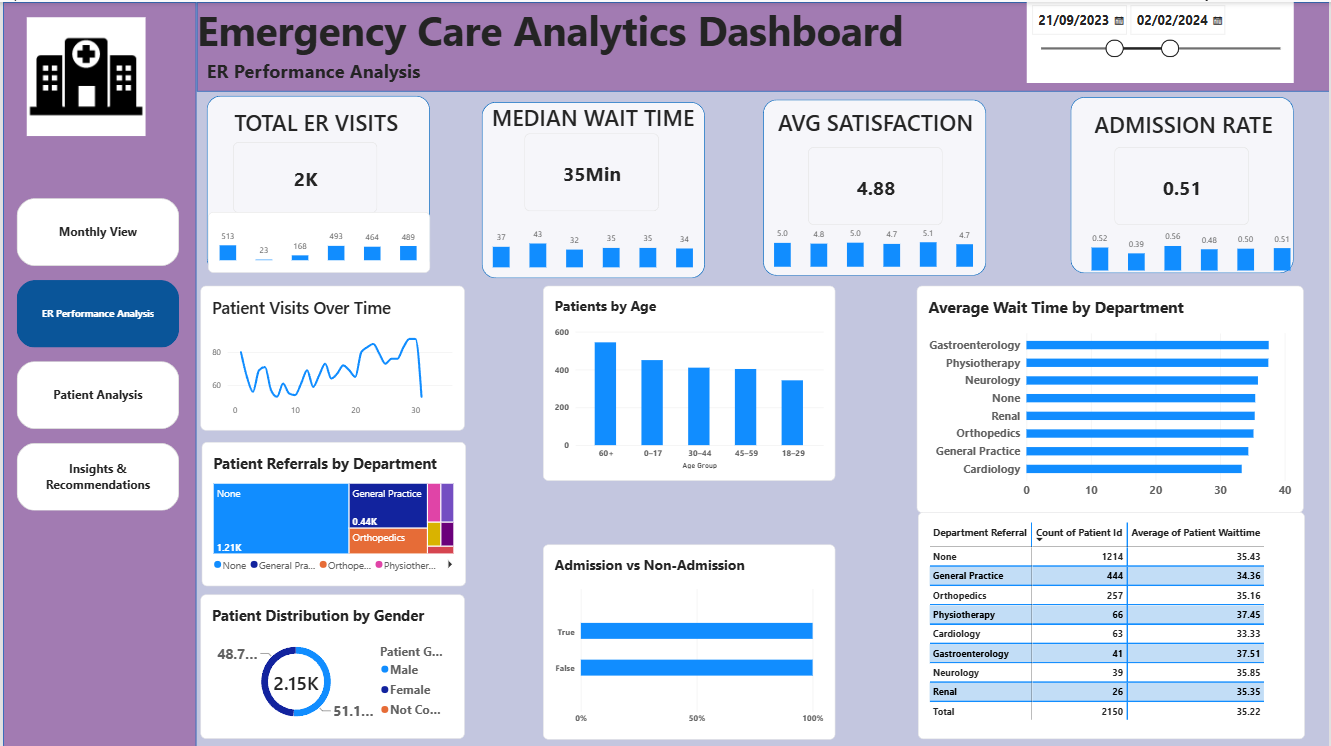

This screenshot's page, from the dashboard's own definition file:
{"tool":"powerbi","page":{"name":"ER Performance Analysis","canvas":[1920,1080],"ordinal":1},"visuals":[{"type":"shape","box":[294.8,134.9,323.2,255.2],"z":0},{"type":"shape","box":[0,0,279.9,1080.6],"z":1000},{"type":"shape","box":[279.9,0,1640.5,129.7],"z":2000},{"type":"textbox","box":[280.3,0,1640.5,117.3],"z":3000},{"type":"cardVisual","fields":{"Data":["Data Table.Total ER Visits"]},"box":[333.6,202,209.7,103.8],"z":4000},{"type":"textbox","box":[294.3,81.4,381.9,48],"z":5000},{"type":"slicer","fields":{"Values":["Data Table.Date"]},"box":[1481.7,0,386.1,116.9],"z":6000},{"type":"textbox","box":[334.3,151.6,283.3,71.4],"z":7000},{"type":"columnChart","fields":{"Category":["Data Table.Date.Variation.Date Hierarchy.Month"],"Y":["Data Table.Total ER Visits"]},"box":[296.3,304.7,321.4,87.7],"z":8000},{"type":"shape","box":[1100.3,141.2,323.2,255.2],"z":9000},{"type":"cardVisual","fields":{"Data":["Hospital ER_Data.Avg Satisfaction"]},"box":[1165.7,209.4,195.5,113.2],"z":10000},{"type":"textbox","box":[1121.1,151.6,283.3,71.4],"z":11000},{"type":"columnChart","fields":{"Category":["Data Table.Date.Variation.Date Hierarchy.Month"],"Y":["Hospital ER_Data.Avg Satisfaction"]},"box":[1100.8,300.2,322.2,99.5],"z":12000},{"type":"shape","box":[1544.6,137,323.2,255.2],"z":13000},{"type":"cardVisual","fields":{"Data":["Hospital ER_Data.Admission Rate %"]},"box":[1608.6,209.4,195.5,113.2],"z":14000},{"type":"textbox","box":[1579.9,155.7,283.3,71.4],"z":15000},{"type":"columnChart","fields":{"Category":["Data Table.Date.Variation.Date Hierarchy.Month"],"Y":["Hospital ER_Data.Admission Rate %"]},"box":[1559.2,305.2,322.2,99.5],"z":16000},{"type":"shape","box":[693,144.9,323.2,255.2],"z":17000},{"type":"cardVisual","fields":{"Data":["Hospital ER_Data.Median Wait Time"]},"box":[754.3,190.9,195.5,113.2],"z":18000},{"type":"textbox","box":[708,145.3,307.3,91.3],"z":19000},{"type":"columnChart","fields":{"Category":["Data Table.Date.Variation.Date Hierarchy.Month"],"Y":["Median(Hospital ER_Data.Patient Waittime)"]},"box":[693.1,302.1,323.9,98.5],"z":20000},{"type":"lineChart","title":"Patient Visits Over Time","fields":{"Category":["Hospital ER_Data.Patient Admission Date.Variation.Date Hierarchy.Day"],"Y":["CountNonNull(Hospital ER_Data.Patient Id)"]},"box":[285.4,411.4,382,209.7],"z":21000},{"type":"clusteredColumnChart","title":"Patients by Age","fields":{"Category":["Hospital ER_Data.Age Group"],"Y":["CountNonNull(Hospital ER_Data.Patient Id)"]},"box":[782.1,411.4,423.5,282.4],"z":22000},{"type":"hundredPercentStackedBarChart","title":"Admission vs Non-Admission","fields":{"Category":["Hospital ER_Data.Patient Admission Flag"],"Y":["CountNonNull(Hospital ER_Data.Patient Id)"]},"box":[782.1,785.8,423.5,282],"z":23000},{"type":"treemap","title":"Patient Referrals by Department","fields":{"Group":["Hospital ER_Data.Department Referral"],"Values":["CountNonNull(Hospital ER_Data.Patient Id)"]},"box":[287.3,637.5,382,209],"z":24000},{"type":"donutChart","title":"Patient Distribution by Gender","fields":{"Category":["Hospital ER_Data.Patient Gender"],"Y":["CountNonNull(Hospital ER_Data.Patient Id)"]},"box":[285.4,858.1,382,209],"z":25000},{"type":"barChart","title":"Average Wait Time by Department","fields":{"Category":["Hospital ER_Data.Department Referral"],"Y":["Avg(Hospital ER_Data.Patient Waittime)"]},"box":[1323.2,411.4,560,329],"z":26000},{"type":"pivotTable","fields":{"Rows":["Hospital ER_Data.Department Referral"],"Values":["CountNonNull(Hospital ER_Data.Patient Id)","Avg(Hospital ER_Data.Patient Waittime)"]},"box":[1323.9,738.1,560,329],"z":27000},{"type":"pageNavigator","box":[19.9,284.1,235.3,454.2],"z":28000},{"type":"image","box":[35.2,11.1,172.4,194.6],"z":28001}]}

Visuals, with their boxes in screenshot pixels (x1, y1, x2, y2), scaled from the page's 1920x1080 canvas onto the 1331x746 screenshot:
shape: Rect(204, 93, 428, 269)
shape: Rect(0, 0, 194, 745)
shape: Rect(194, 0, 1330, 90)
textbox: Rect(194, 0, 1330, 81)
cardVisual - Data Table.Total ER Visits: Rect(231, 140, 377, 211)
textbox: Rect(204, 56, 469, 89)
slicer - Data Table.Date: Rect(1027, 0, 1295, 81)
textbox: Rect(232, 105, 428, 154)
columnChart - Data Table.Date.Variation.Date Hierarchy.Month x Data Table.Total ER Visits: Rect(205, 210, 428, 271)
shape: Rect(763, 98, 987, 274)
cardVisual - Hospital ER_Data.Avg Satisfaction: Rect(808, 145, 944, 223)
textbox: Rect(777, 105, 974, 154)
columnChart - Data Table.Date.Variation.Date Hierarchy.Month x Hospital ER_Data.Avg Satisfaction: Rect(763, 207, 986, 276)
shape: Rect(1071, 95, 1295, 271)
cardVisual - Hospital ER_Data.Admission Rate %: Rect(1115, 145, 1251, 223)
textbox: Rect(1095, 108, 1292, 157)
columnChart - Data Table.Date.Variation.Date Hierarchy.Month x Hospital ER_Data.Admission Rate %: Rect(1081, 211, 1304, 280)
shape: Rect(480, 100, 704, 276)
cardVisual - Hospital ER_Data.Median Wait Time: Rect(523, 132, 658, 210)
textbox: Rect(491, 100, 704, 163)
columnChart - Data Table.Date.Variation.Date Hierarchy.Month x Median(Hospital ER_Data.Patient Waittime): Rect(480, 209, 705, 277)
"Patient Visits Over Time" lineChart: Rect(198, 284, 463, 429)
"Patients by Age" clusteredColumnChart: Rect(542, 284, 836, 479)
"Admission vs Non-Admission" hundredPercentStackedBarChart: Rect(542, 543, 836, 738)
"Patient Referrals by Department" treemap: Rect(199, 440, 464, 585)
"Patient Distribution by Gender" donutChart: Rect(198, 593, 463, 737)
"Average Wait Time by Department" barChart: Rect(917, 284, 1305, 511)
pivotTable - Hospital ER_Data.Department Referral x CountNonNull(Hospital ER_Data.Patient Id): Rect(918, 510, 1306, 737)
pageNavigator: Rect(14, 196, 177, 510)
image: Rect(24, 8, 144, 142)
